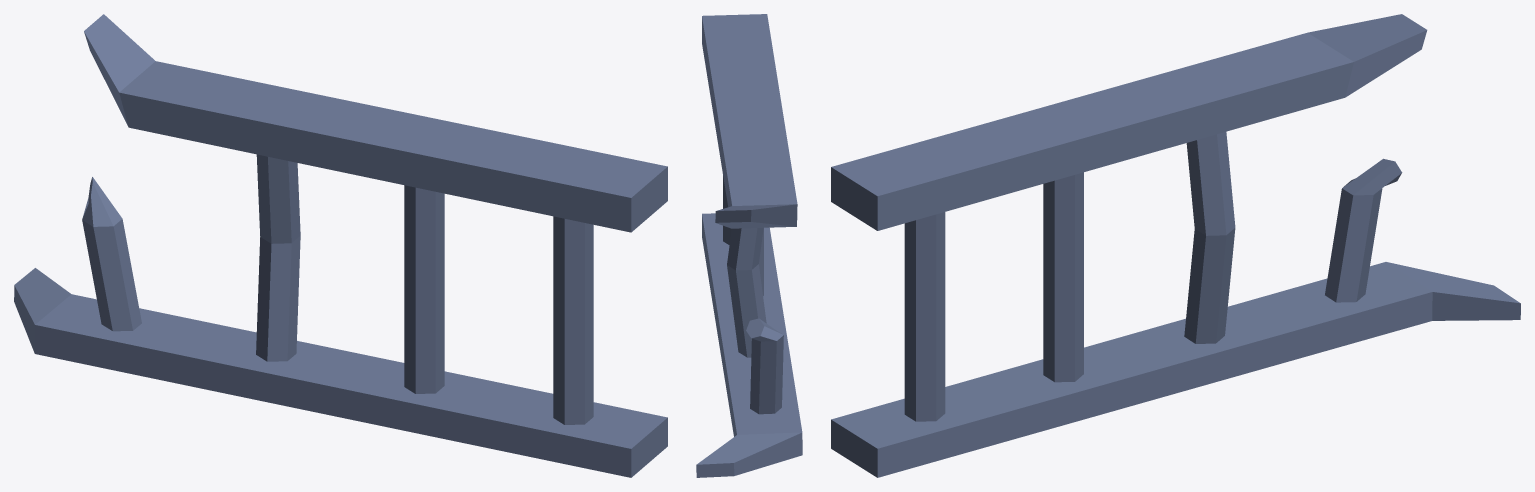
The model's file is n2_damaged_railing_left_grey_0_lev2.002.glb.
3 renders of one model, left to right at view 1: azimuth 30°, elevation 25°; view 2: azimuth 150°, elevation 25°; view 3: azimuth 270°, elevation 25°, orthographic. The views are drawn at different scales.
Visible parts, largest first — view 1: n2_damaged_railing_left_grey_0_lev2.002; view 2: n2_damaged_railing_left_grey_0_lev2.002; view 3: n2_damaged_railing_left_grey_0_lev2.002.
Boxes of the visible parts, x1,y1,x2,y2 form: n2_damaged_railing_left_grey_0_lev2.002: [14, 14, 667, 477]; n2_damaged_railing_left_grey_0_lev2.002: [696, 14, 802, 477]; n2_damaged_railing_left_grey_0_lev2.002: [831, 14, 1520, 477].
Bounding box in the file's own units: 2.57 × 1.96 × 4.01.
